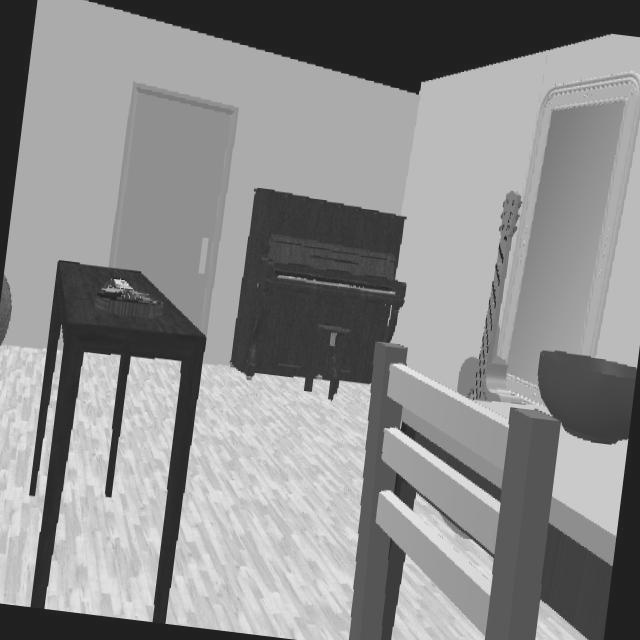chair: (348, 342, 560, 640)
table: (27, 260, 206, 623), (548, 426, 628, 566), (403, 411, 501, 489), (473, 402, 548, 419)
